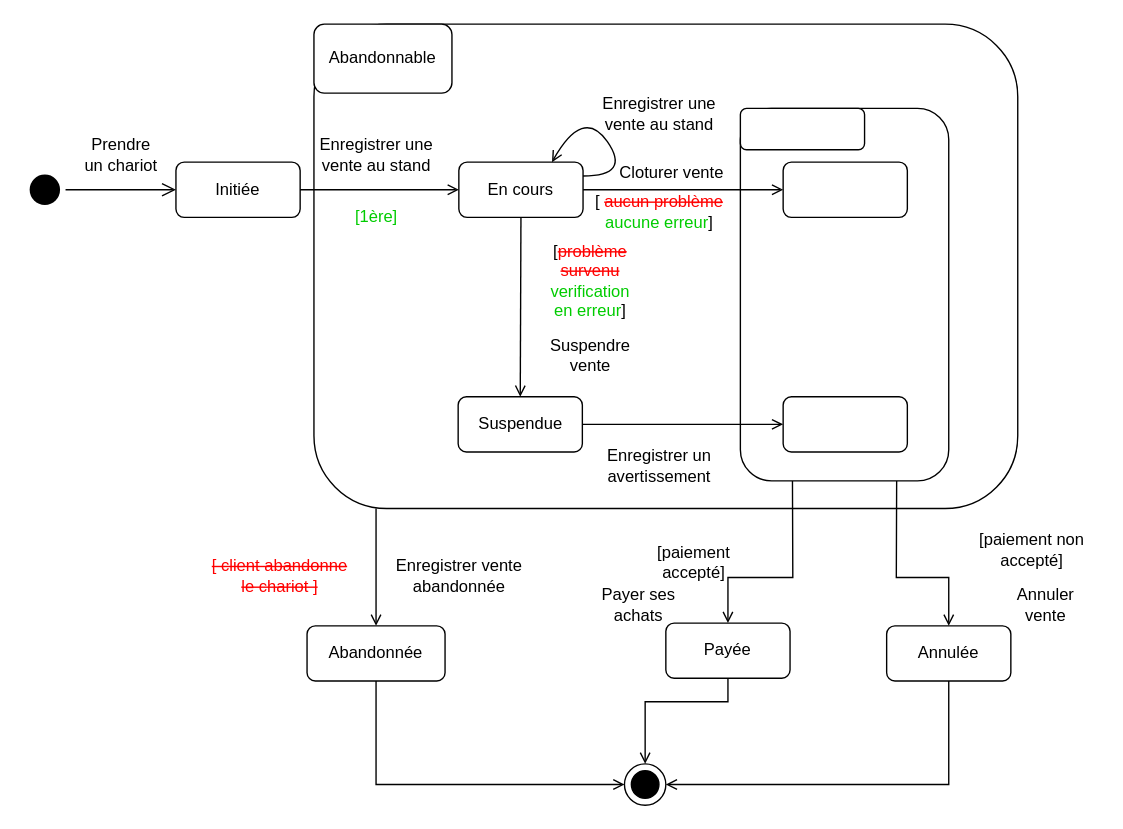
This 1123x829 diagram has some shape labels left out. The centre of each missing label's shape, as x and y in pixels:
"Cloturée" goes at (x=844, y=189).
"Cloturée avec avertissement" goes at (x=844, y=423).
"Clôturée" goes at (x=802, y=128).
